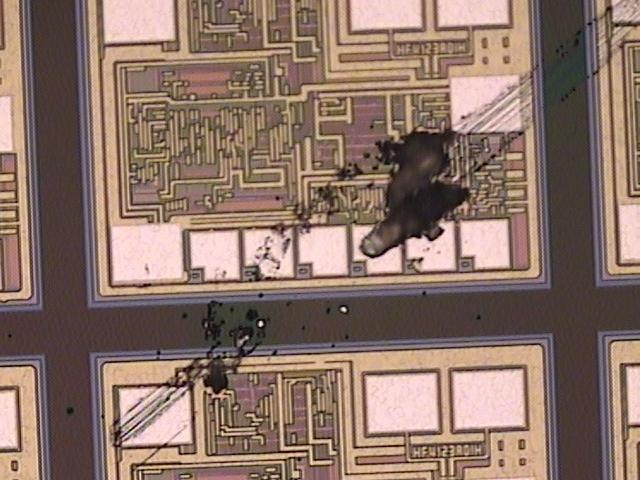SCRATCH: (75, 1, 640, 476)
